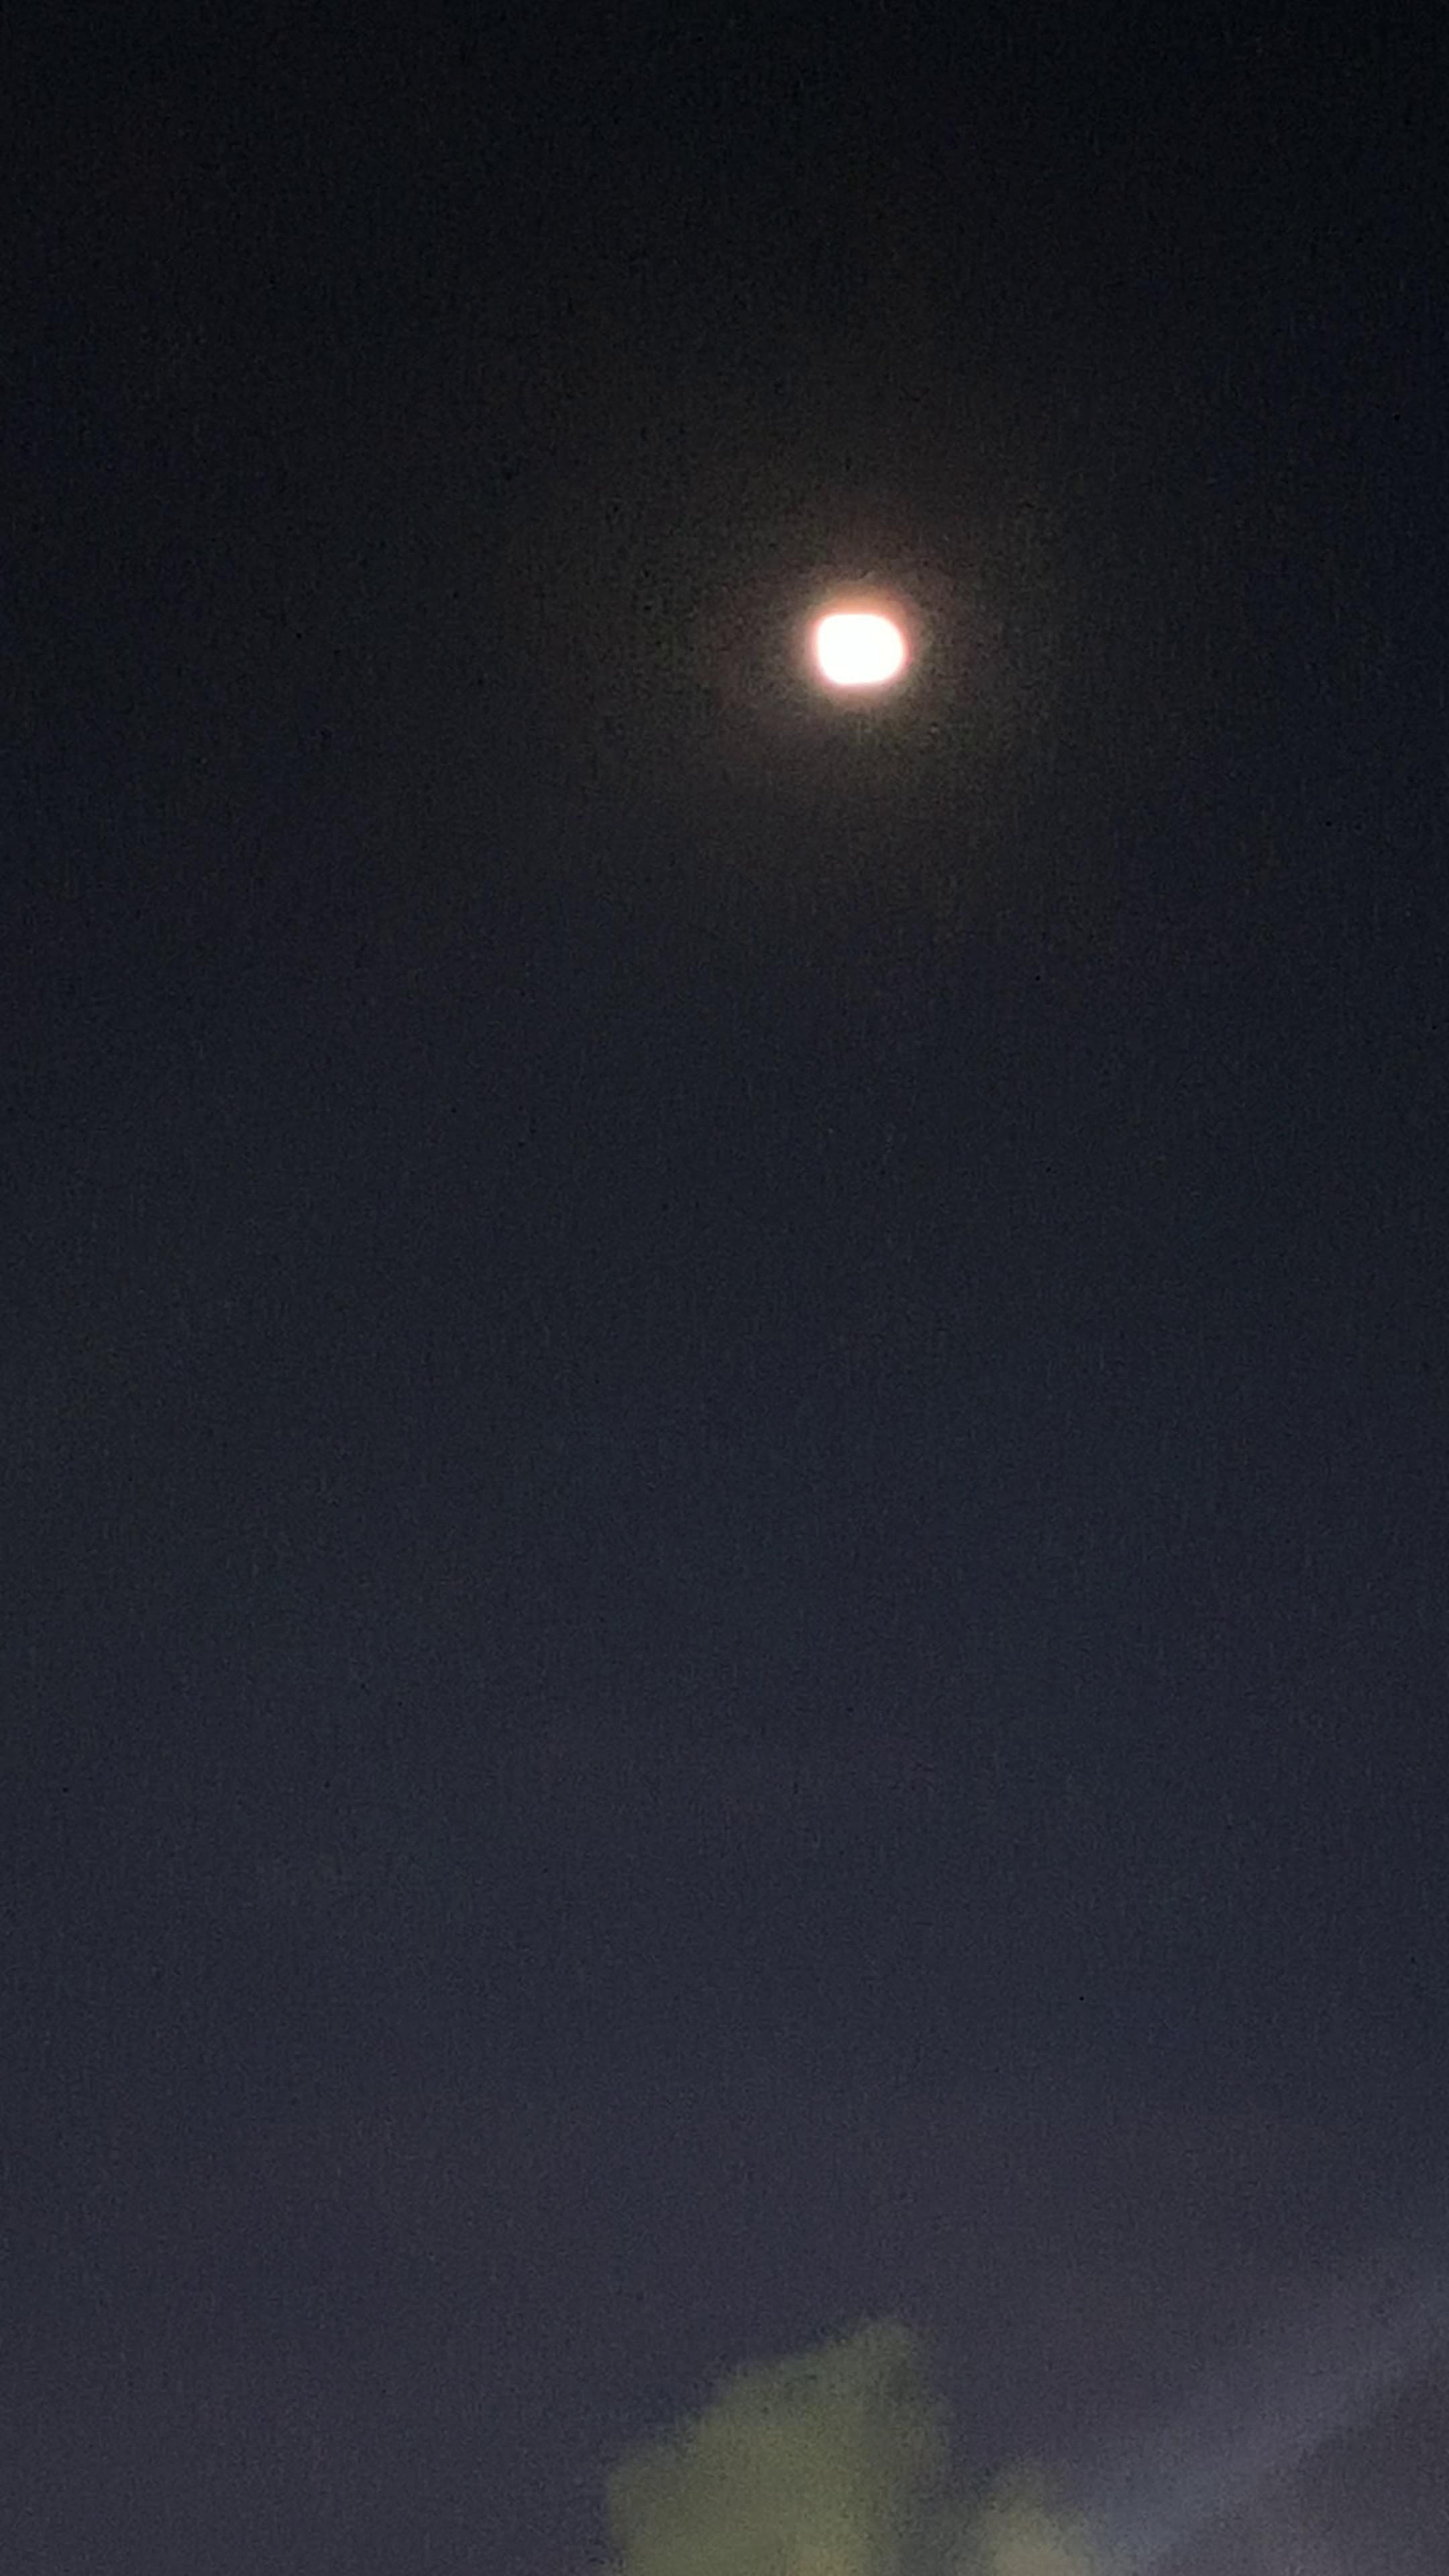moon: (782, 591, 941, 736)
